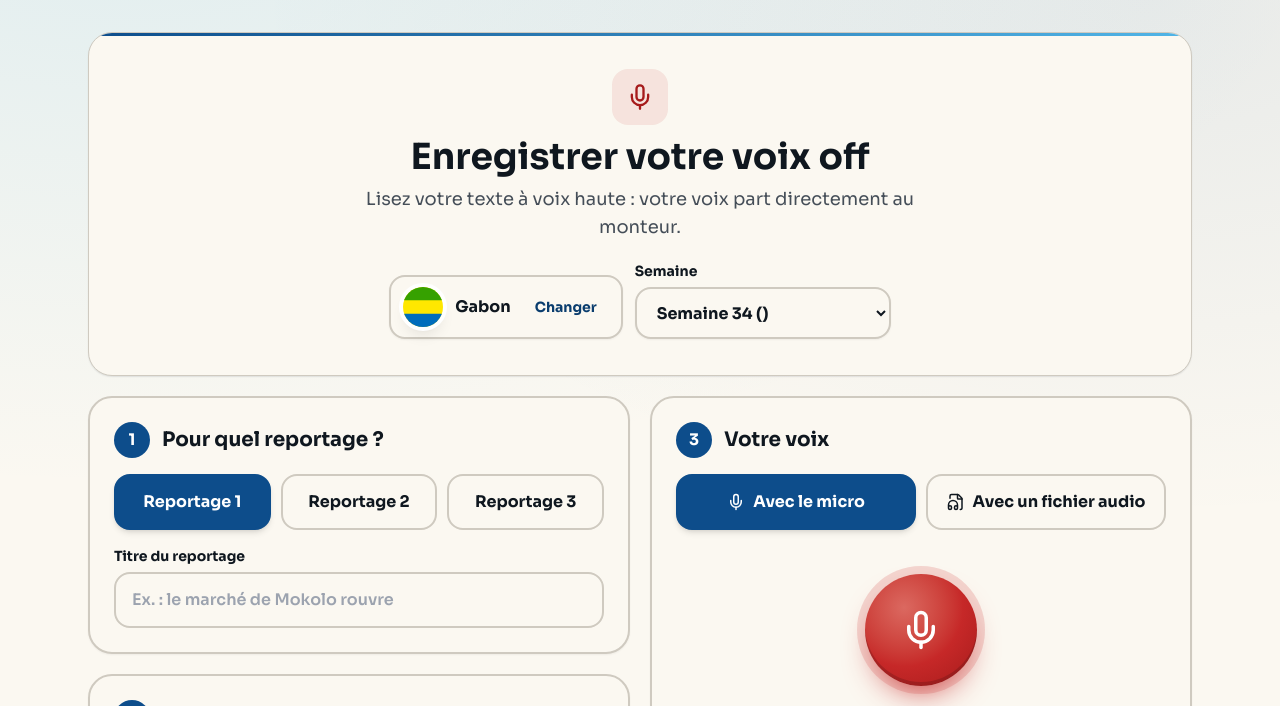
Test case: StudioVoixJournaliste › enregistrer, terminer, réécouter, envoyer : la voix arrive chez le monteur
This screenshot has width=1280, height=706.
Click the button named "Commencer l’enregistrement": x=921, y=630 [865,574,977,686]
(page scrolled)
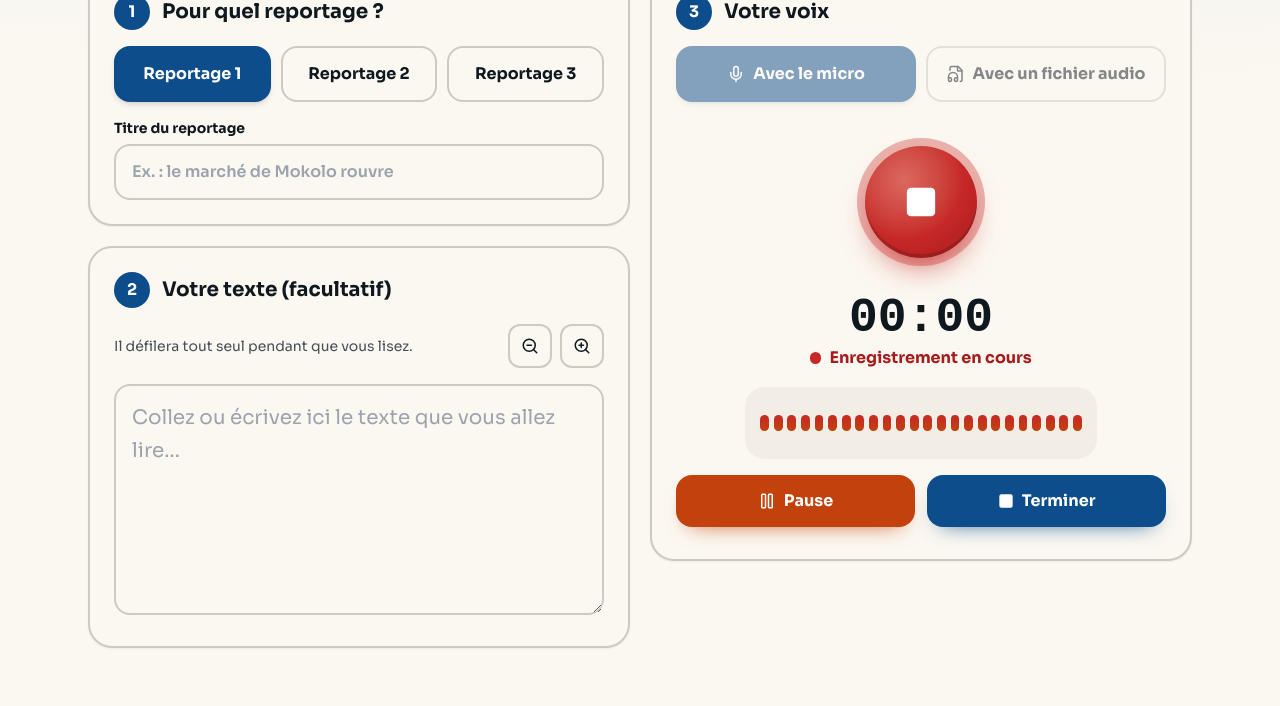
Result: the text "Enregistrement en cours" is shown at [810,346,1032,370]
Click the button "Pause": x=796, y=501 [676,475,915,527]
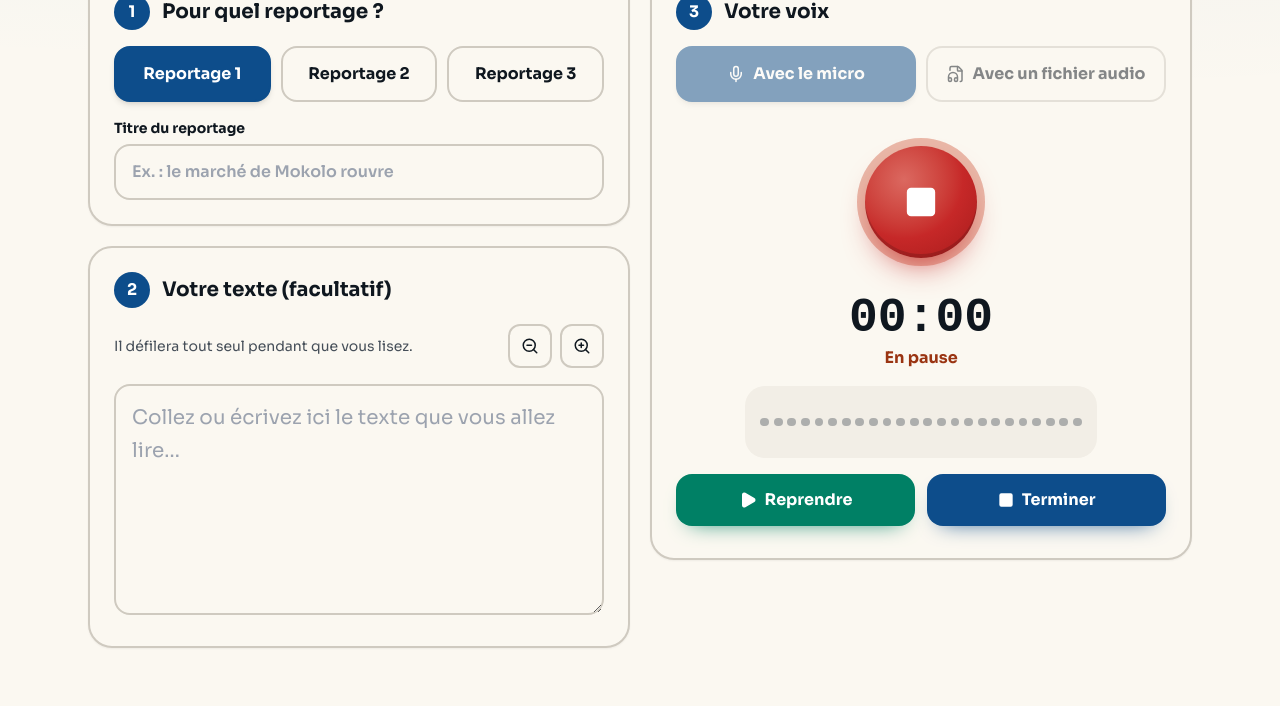
Result: the text "En pause" is shown at [884,346,958,370]
Click the button "Reprendre": x=796, y=500 [676,474,915,526]
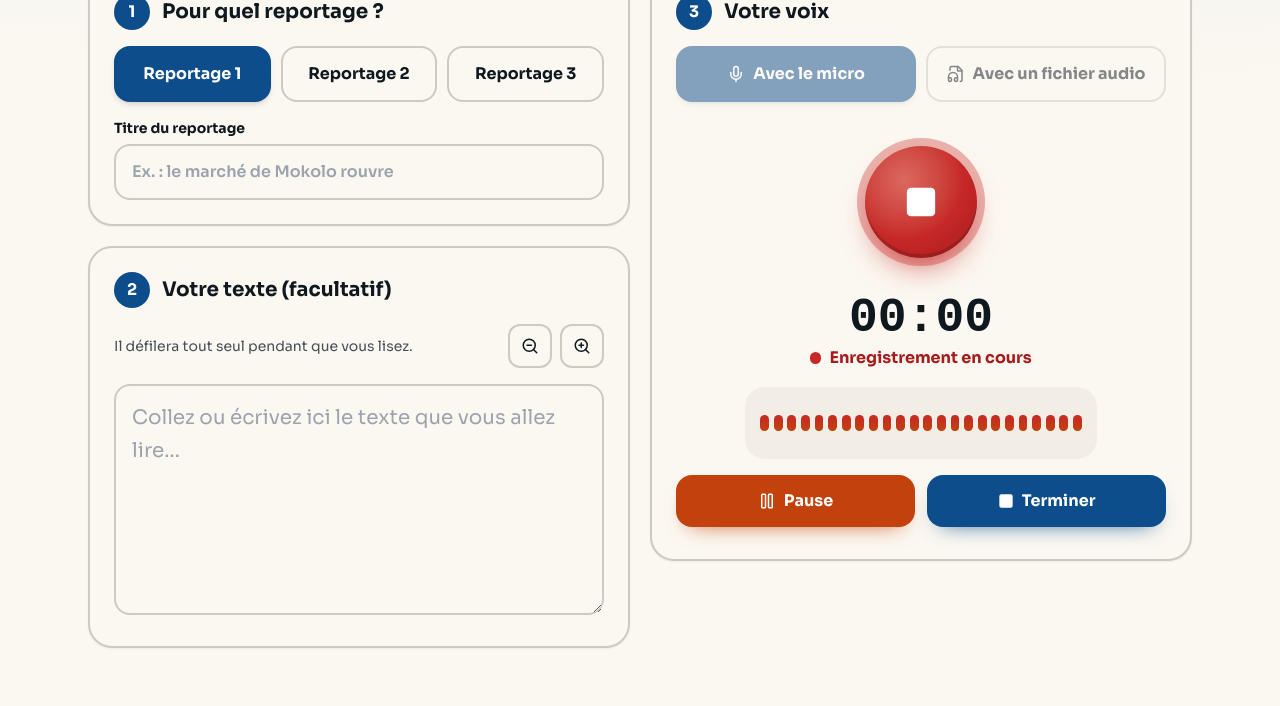
Click the button named "Terminer": x=921, y=202 [865,146,977,258]
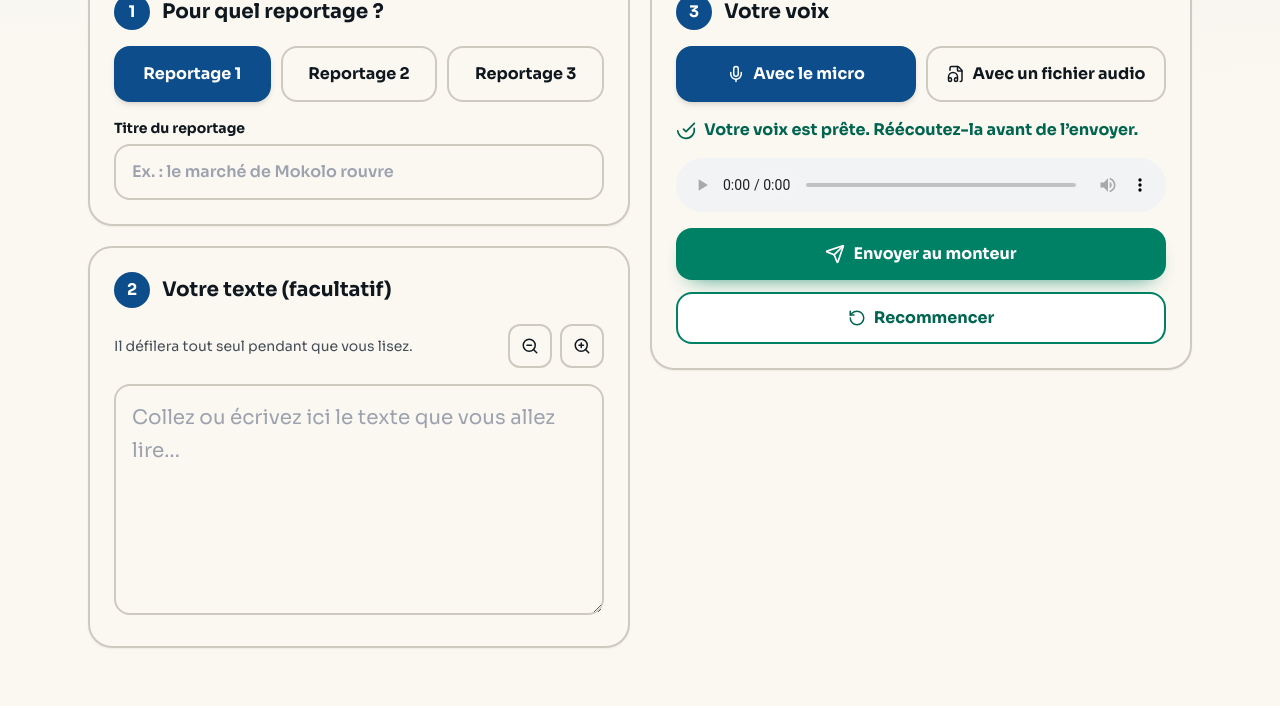
Result: the text "Votre voix est prête. Réécoutez-la avant de l’envoyer." is shown at [676,118,1166,142]
Click the button "Envoyer au monteur": x=921, y=254 [676,228,1166,280]
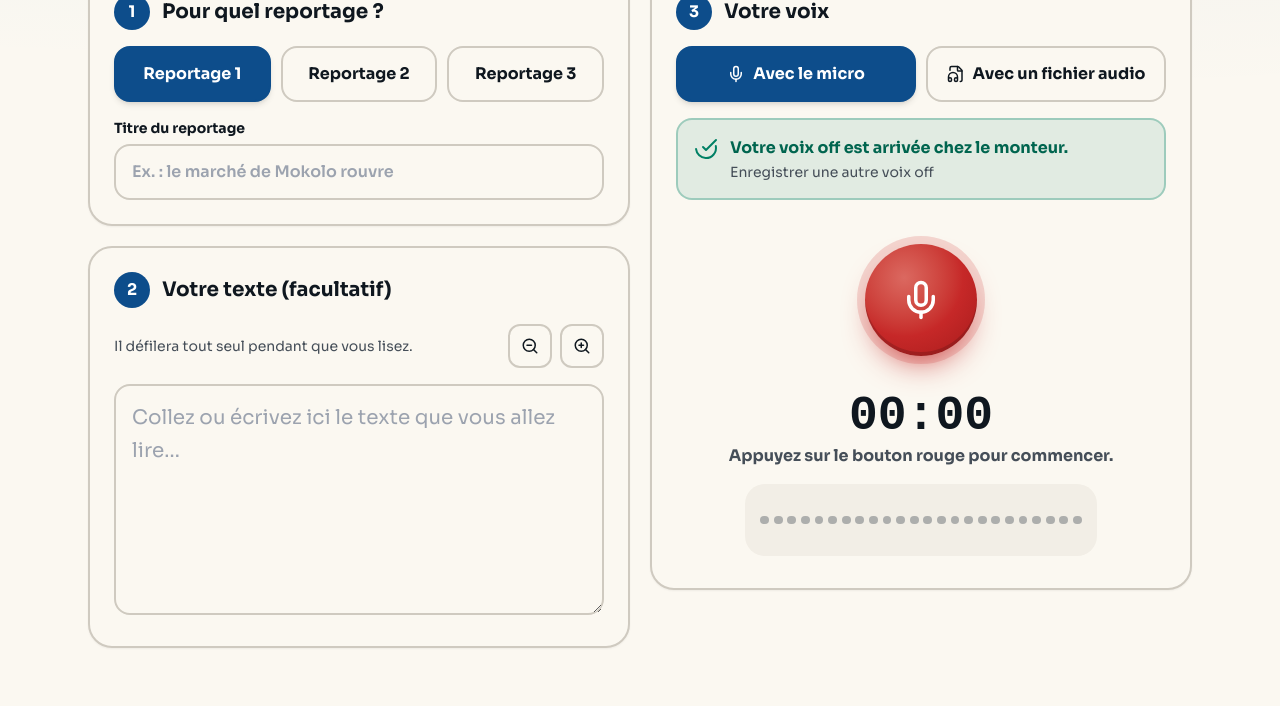
Expected: the text "Reportage 1" is shown, [143,63,241,84]
Result: the message shows "Votre voix off est arrivée chez le monteur." at [730,137,1068,158]
